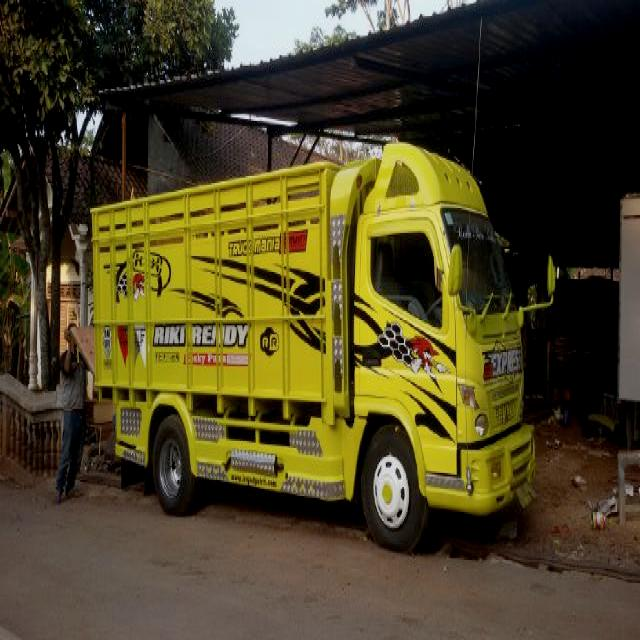truck: (92, 136, 561, 538)
